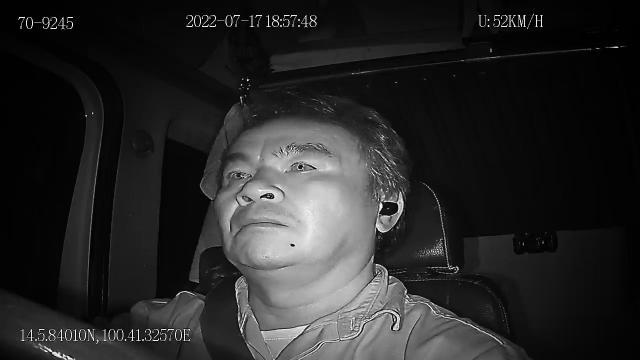SafeDriving: (219, 157, 258, 188), (280, 150, 323, 178)
Seatbelt: (198, 272, 258, 360)
